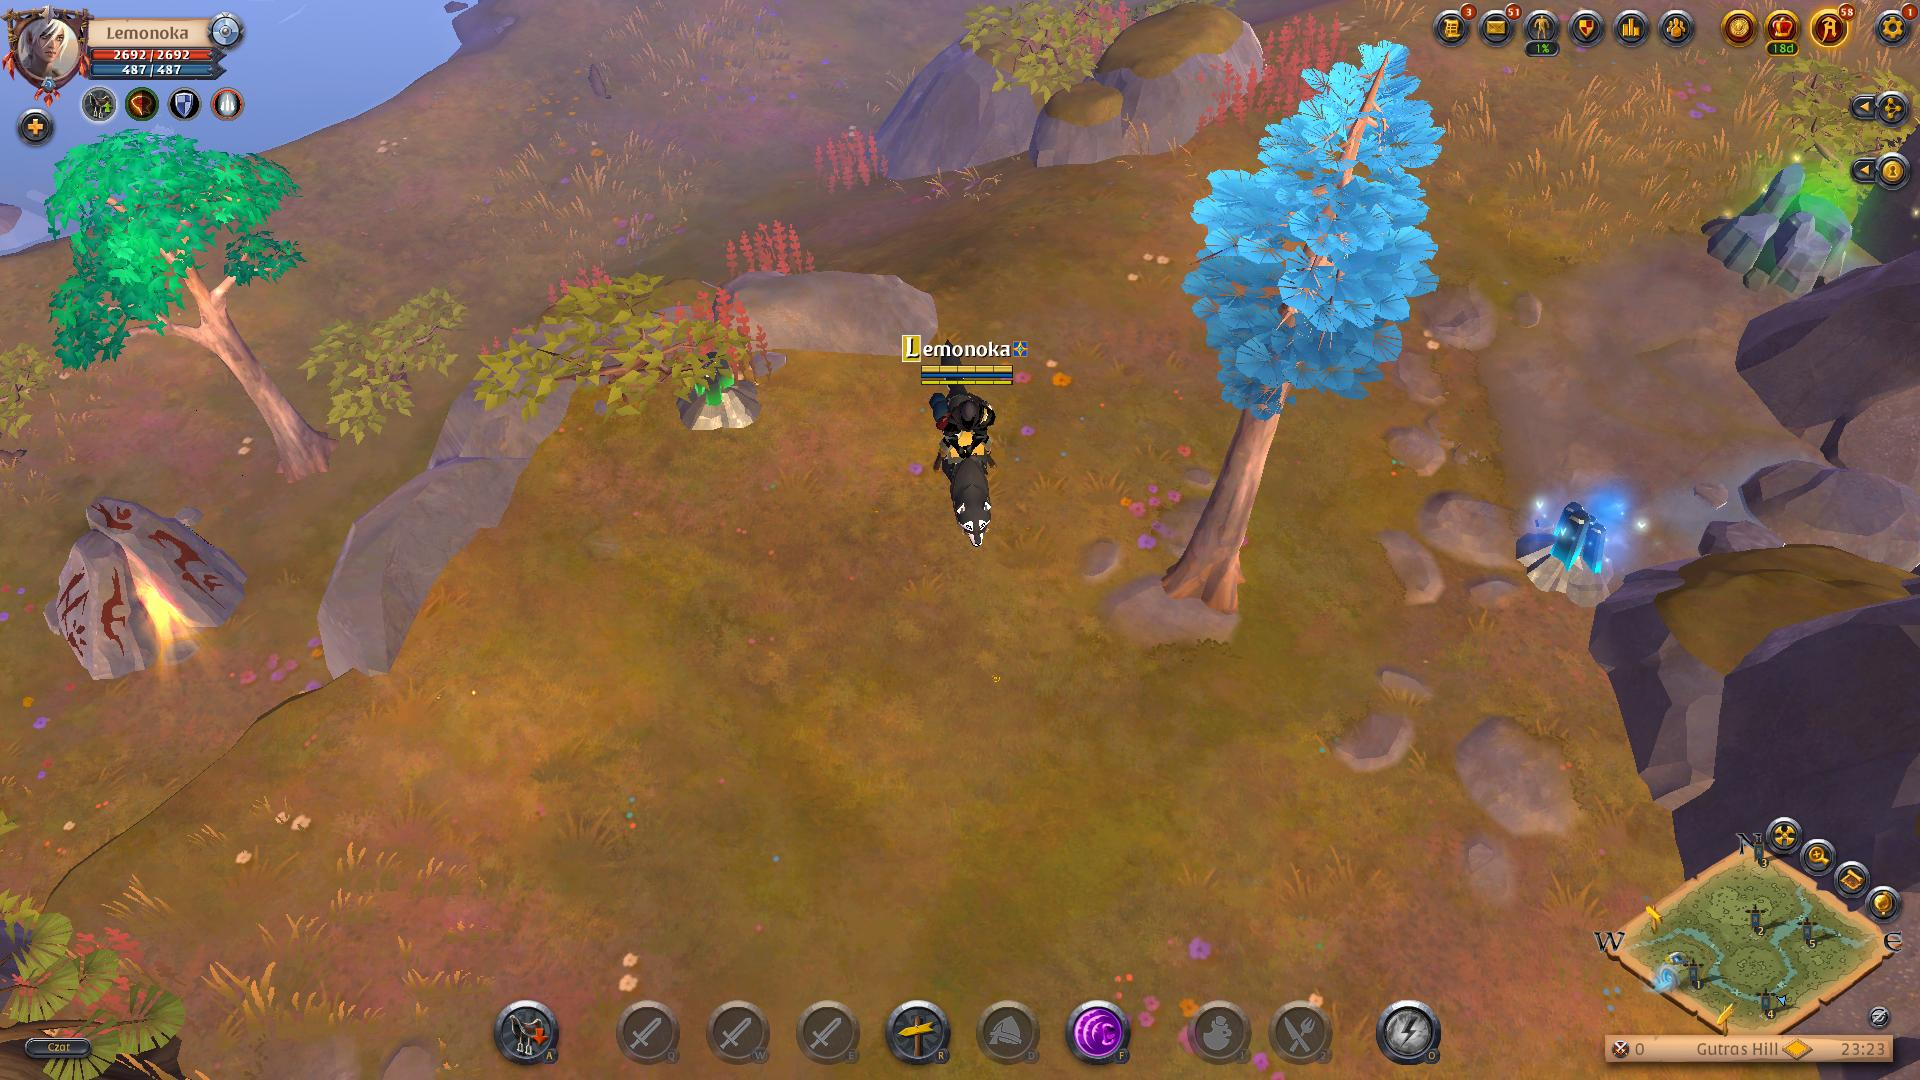ore tier 3: (670, 343, 769, 440)
ore tier 4: (1516, 495, 1627, 613)
wood tier 3: (45, 135, 311, 365)
wood tier 4: (1187, 40, 1448, 436)
